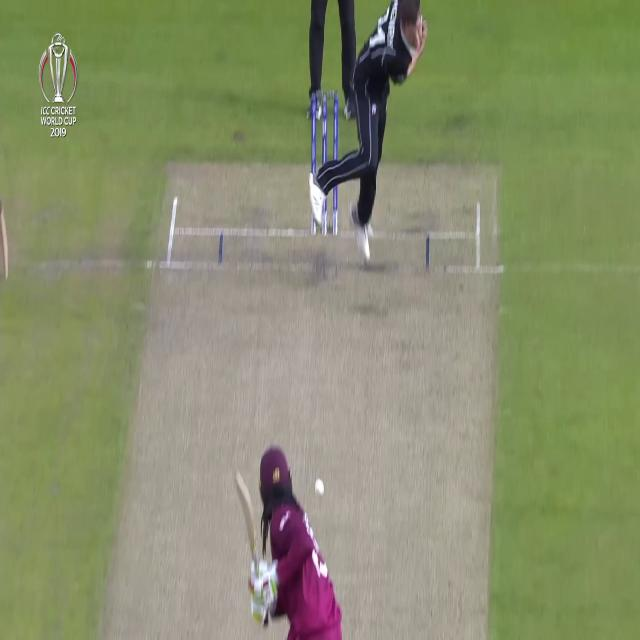ball: (312, 472, 327, 501)
